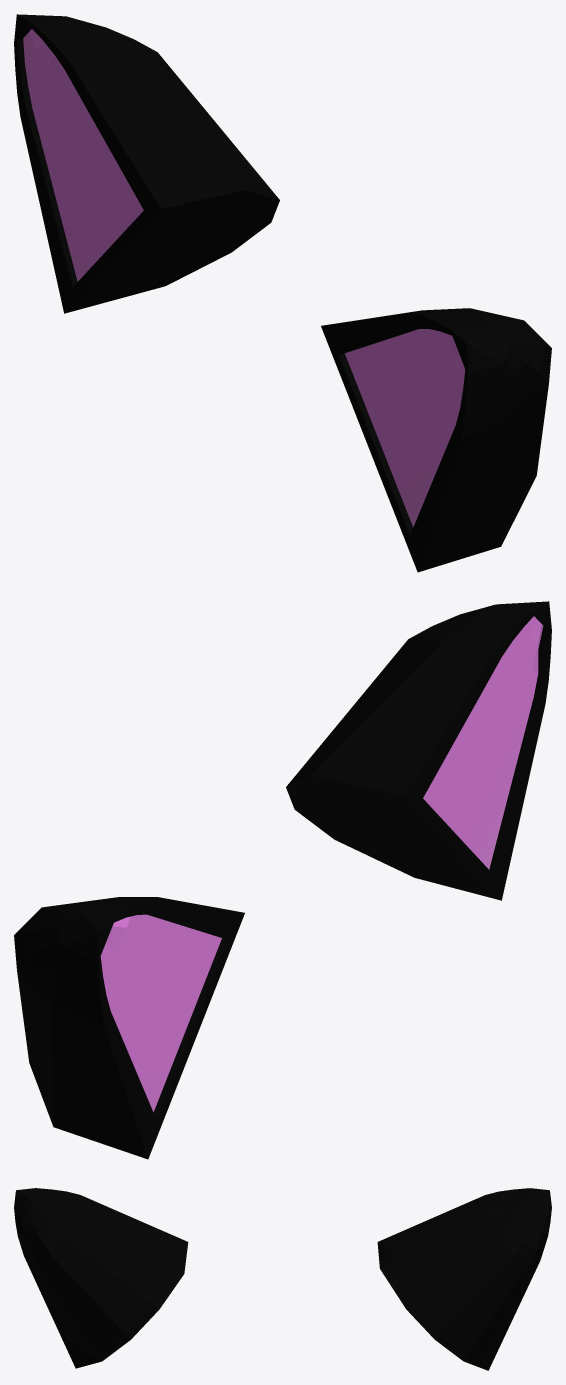
Rendered from Orejasgato.fbx.
The picture shows the model from 3 angles, top to bottom: view 1: azimuth 30°, elevation 25°; view 2: azimuth 150°, elevation 25°; view 3: azimuth 270°, elevation 25°; orthographic projection. The views are drawn at different scales.
Visible parts, largest first — view 1: Orejasgato; view 2: Orejasgato; view 3: Orejasgato.
Boxes of the visible parts, left/top/right/bottom form: Orejasgato: left=14, top=14, right=551, bottom=572; Orejasgato: left=14, top=601, right=551, bottom=1159; Orejasgato: left=14, top=1188, right=551, bottom=1370.
Size of the model in its own units: 0.6689 by 1.07 by 3.31.
